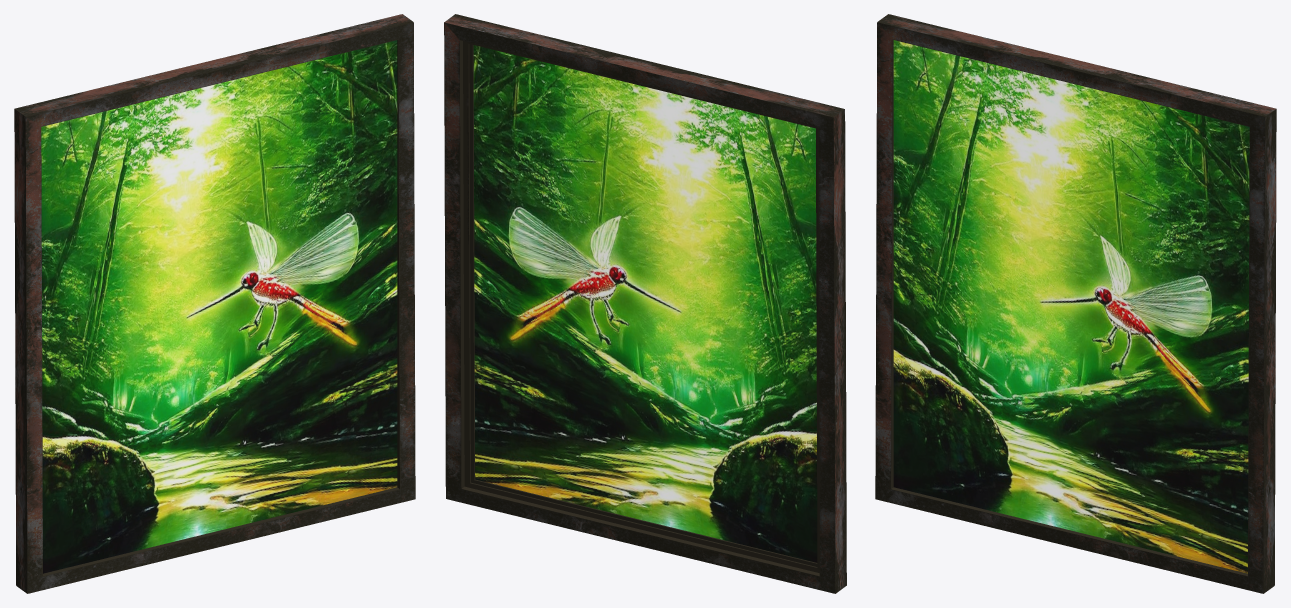
3 renders of one model, left to right at view 1: azimuth 30°, elevation 25°; view 2: azimuth 150°, elevation 25°; view 3: azimuth 330°, elevation 25°, orthographic.
Visible parts, largest first — view 1: Plane, f; view 2: Plane, f; view 3: Plane, f.
Part boxes in pixels (x1,y1,x2,y2): Plane: (41, 40, 397, 573); f: (14, 14, 415, 593); Plane: (473, 45, 817, 562); f: (444, 14, 846, 593); Plane: (893, 40, 1249, 573); f: (875, 14, 1276, 593).
Size of the model in its own units: 0.5737 by 0.6724 by 0.0334.
Materials: 2 (2 with a texture image).
